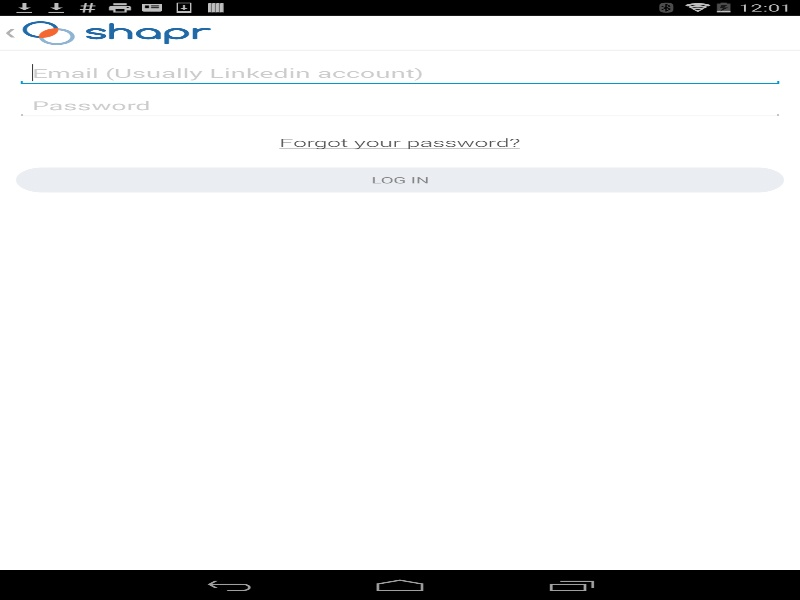Input: (16, 60, 784, 86), (16, 92, 784, 118)
